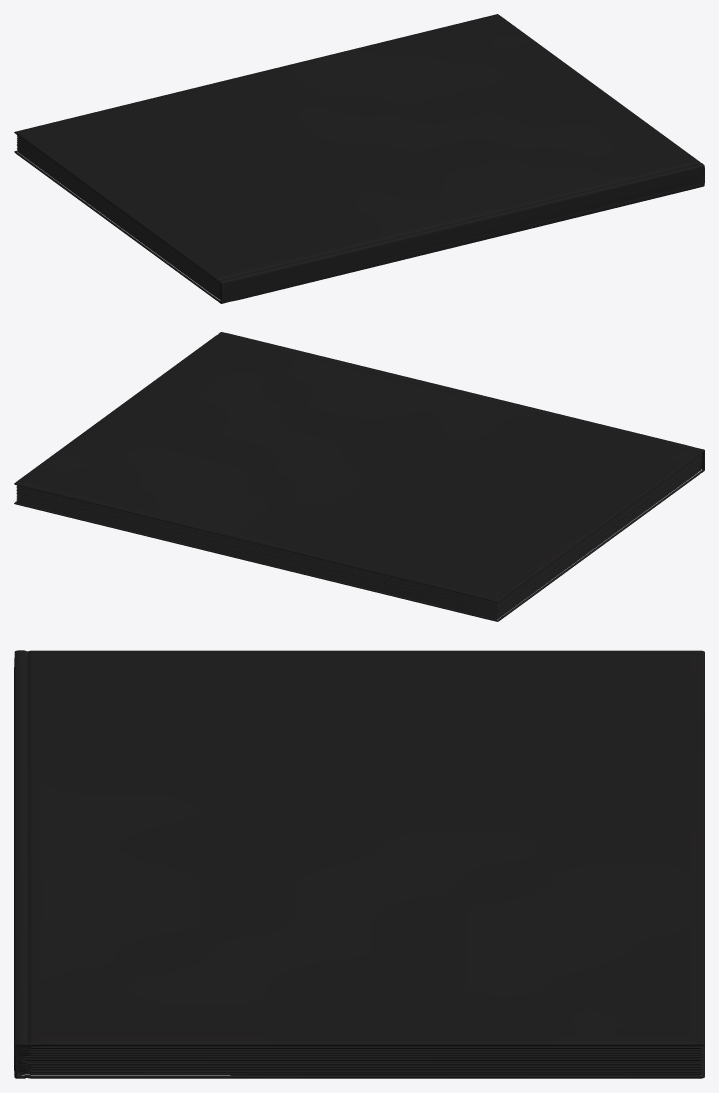
The model's file is misc_notebook_a01.glb.
3 views of the same model, one above another, from view 1: azimuth 30°, elevation 25°; view 2: azimuth 150°, elevation 25°; view 3: azimuth 270°, elevation 25° (orthographic). The views are drawn at different scales.
Parts seen in each view (by area): view 1: geometry_0; view 2: geometry_0; view 3: geometry_0.
Boxes of the visible parts, box(x1,y1,x2,y2) form: geometry_0: box(14, 14, 704, 303); geometry_0: box(14, 332, 704, 621); geometry_0: box(14, 650, 704, 1078).
Size of the model in its own units: 0.42 by 0.0184 by 0.3118.
Materials: 1 (1 with a texture image).
